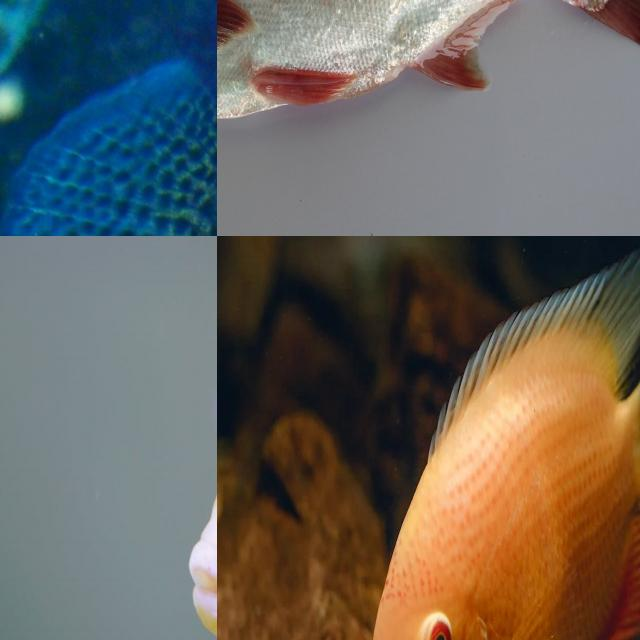fish: (329, 323, 640, 640), (217, 0, 640, 152), (0, 0, 217, 236)
